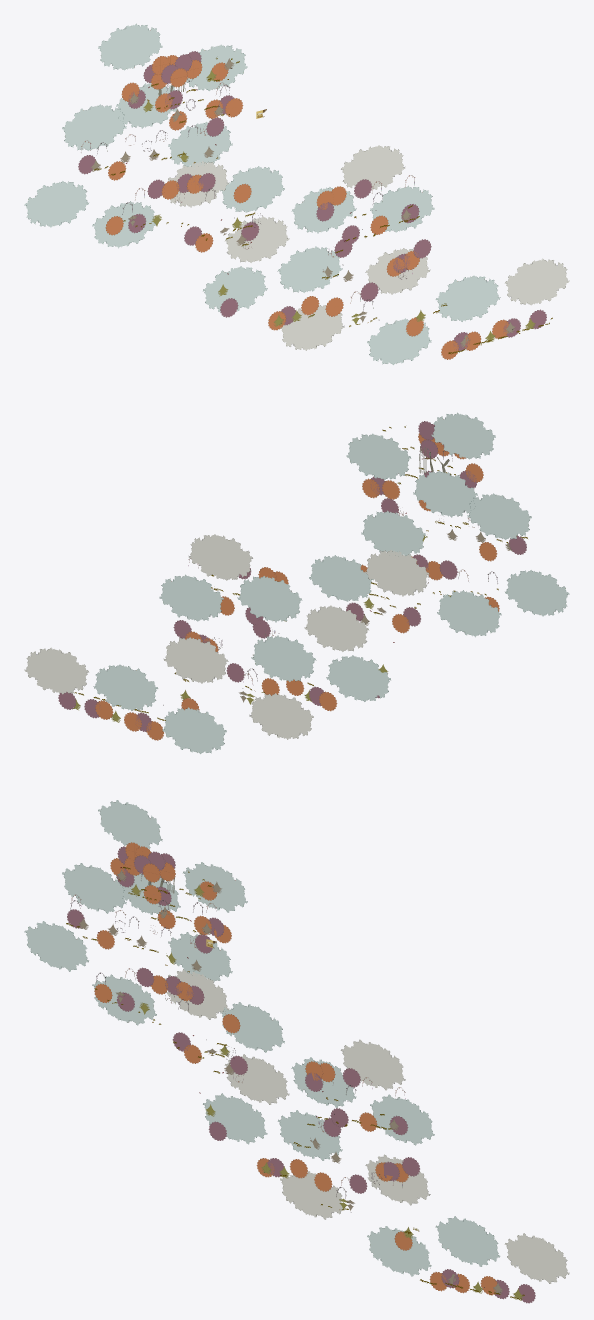
File: iseki01_bg.glb
The picture shows the model from 3 angles, top to bottom: view 1: azimuth 30°, elevation 25°; view 2: azimuth 150°, elevation 25°; view 3: azimuth 330°, elevation 25°; orthographic projection.
Parts seen in each view (by area): view 1: iseki01_bg; view 2: iseki01_bg; view 3: iseki01_bg.
Boxes of the visible parts, x1,y1,x2,y2 form: iseki01_bg: (24, 23, 569, 365); iseki01_bg: (24, 412, 569, 754); iseki01_bg: (24, 800, 569, 1303).
Bounding box in the file's own units: 3126 × 2153 × 239.
Materials: 14 (14 with a texture image).
